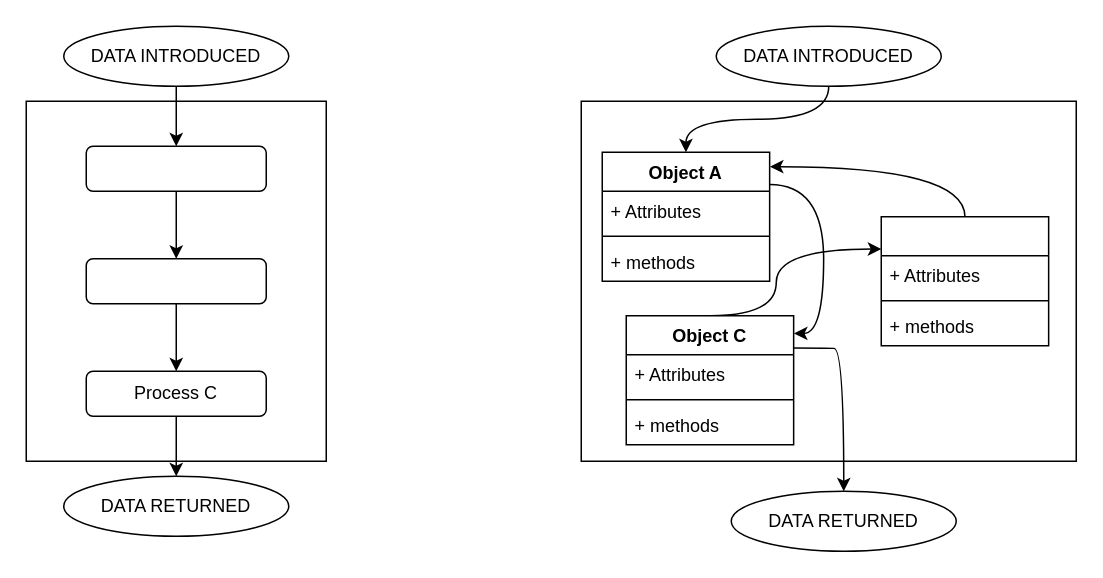
Some shapes in this 1103 by 578 pixel diagram are drawn without their labels. The box of each missing label's shape, as (x1, y1, x2, y2) in pixels:
Object B: (880, 215, 1049, 346)
Process A: (85, 145, 266, 191)
Process B: (85, 257, 266, 304)
